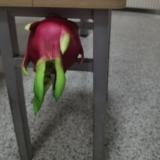pitaya: (25, 15, 80, 107)
